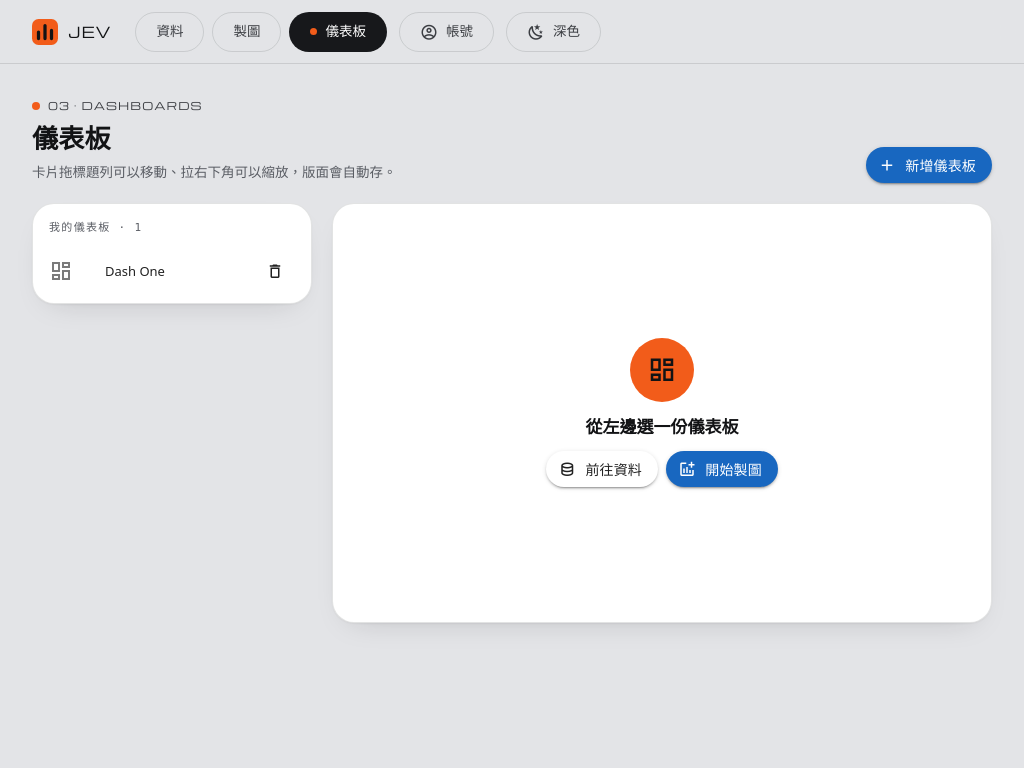
Test case: App › shows the error message when deleting a dashboard fails (after confirming)
The width and height of the screenshot is (1024, 768).
Click the button named "刪除儀表板" at {"x": 275, "y": 271}, box [255,251,295,291]
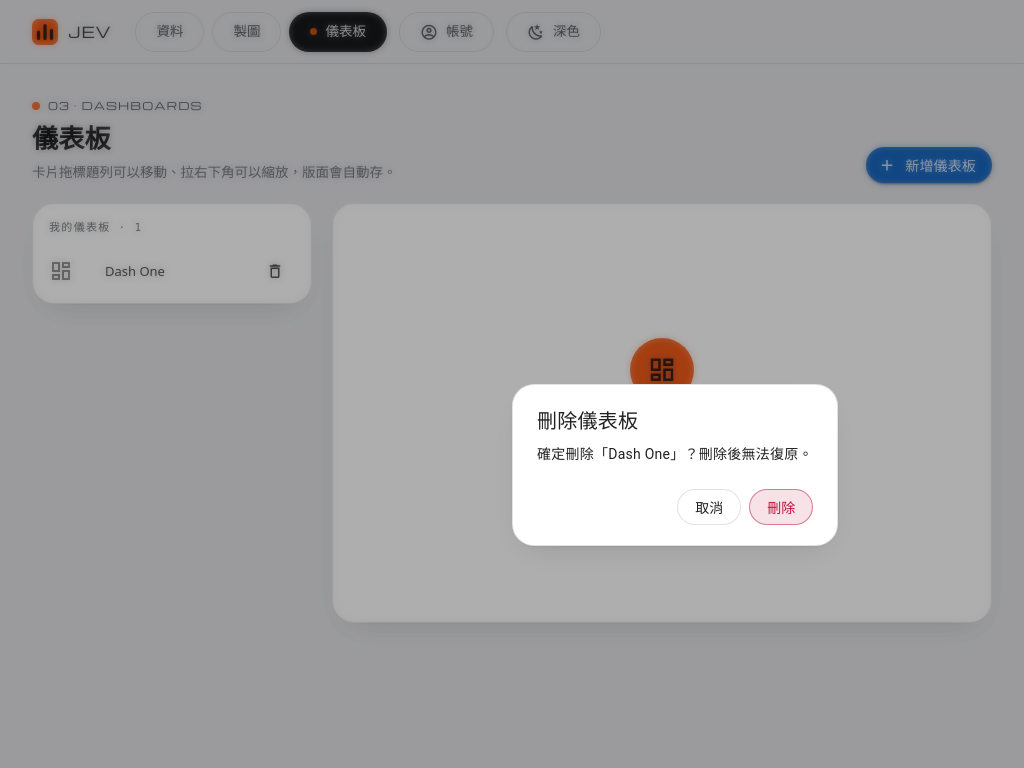
Click the button "刪除" at {"x": 781, "y": 507}, box [749,489,813,525]
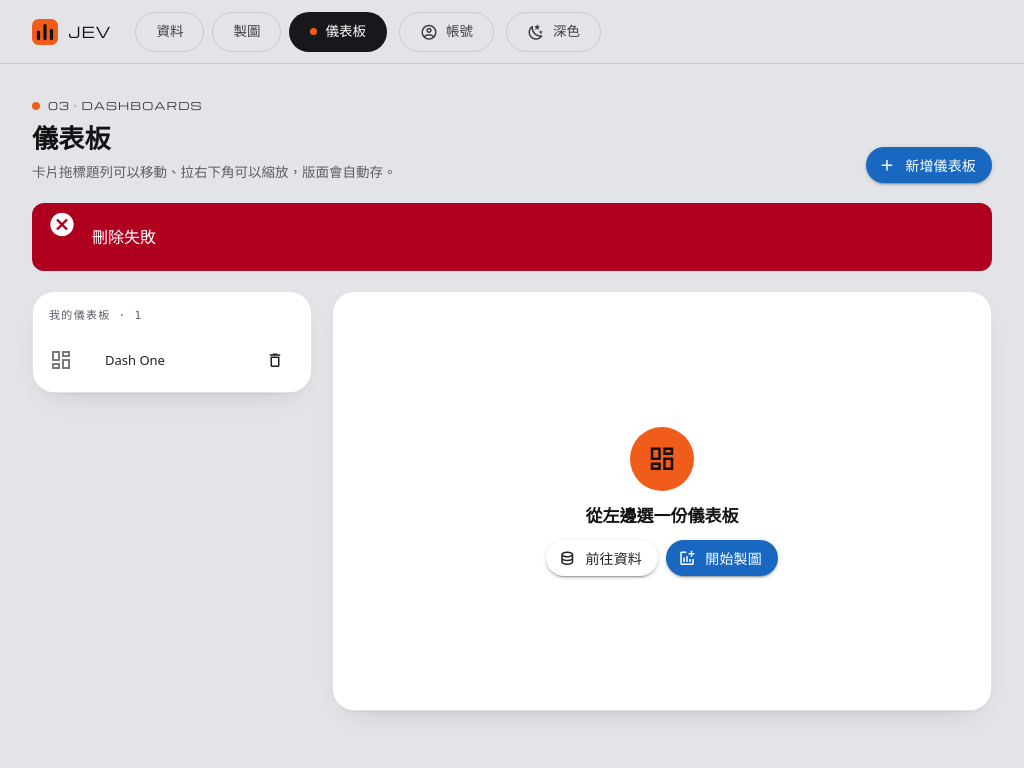
Check: the text "刪除失敗" is shown, box [92,226,156,248]
